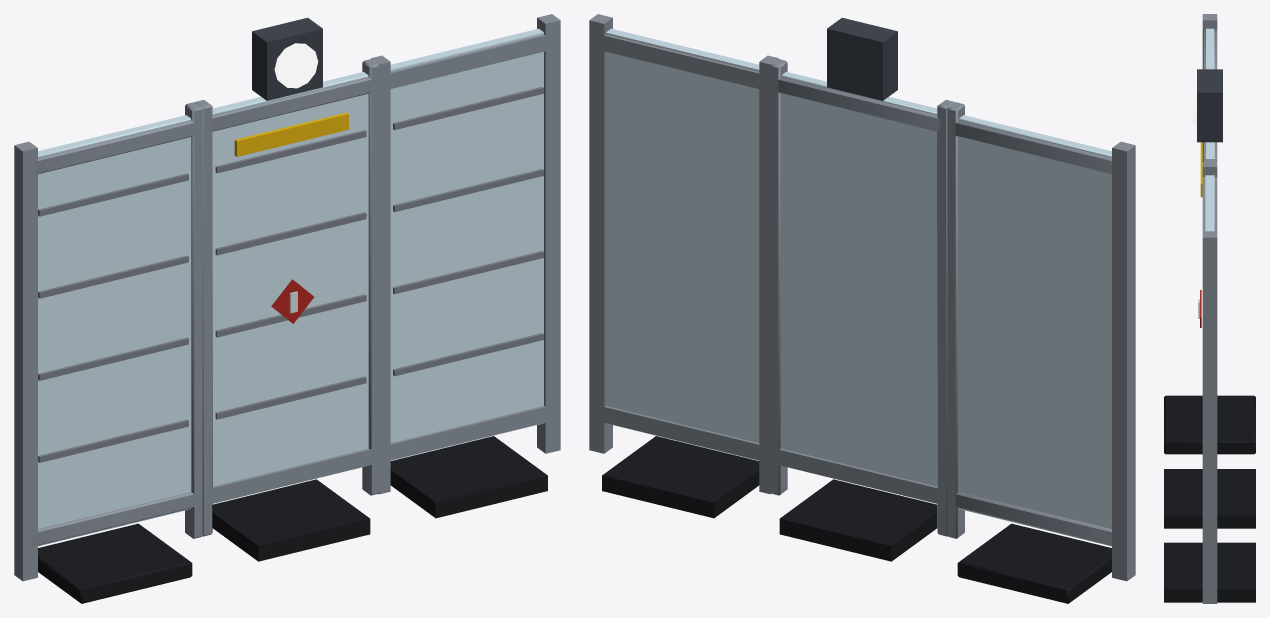
The model's file is hangartool_paint_booth_screen.glb.
3 views of the same model, side by side, from view 1: azimuth 30°, elevation 25°; view 2: azimuth 150°, elevation 25°; view 3: azimuth 270°, elevation 25° (orthographic). The views are drawn at different scales.
Parts seen in each view (by area): view 1: hangartool_paint_booth_screen; view 2: hangartool_paint_booth_screen; view 3: hangartool_paint_booth_screen.
Part boxes in pixels (x1,y1,x2,y2): hangartool_paint_booth_screen: (14,14,560,603); hangartool_paint_booth_screen: (589,14,1135,603); hangartool_paint_booth_screen: (1164,14,1255,603).
Size of the model in its own units: 2.88 by 2.55 by 0.5.
